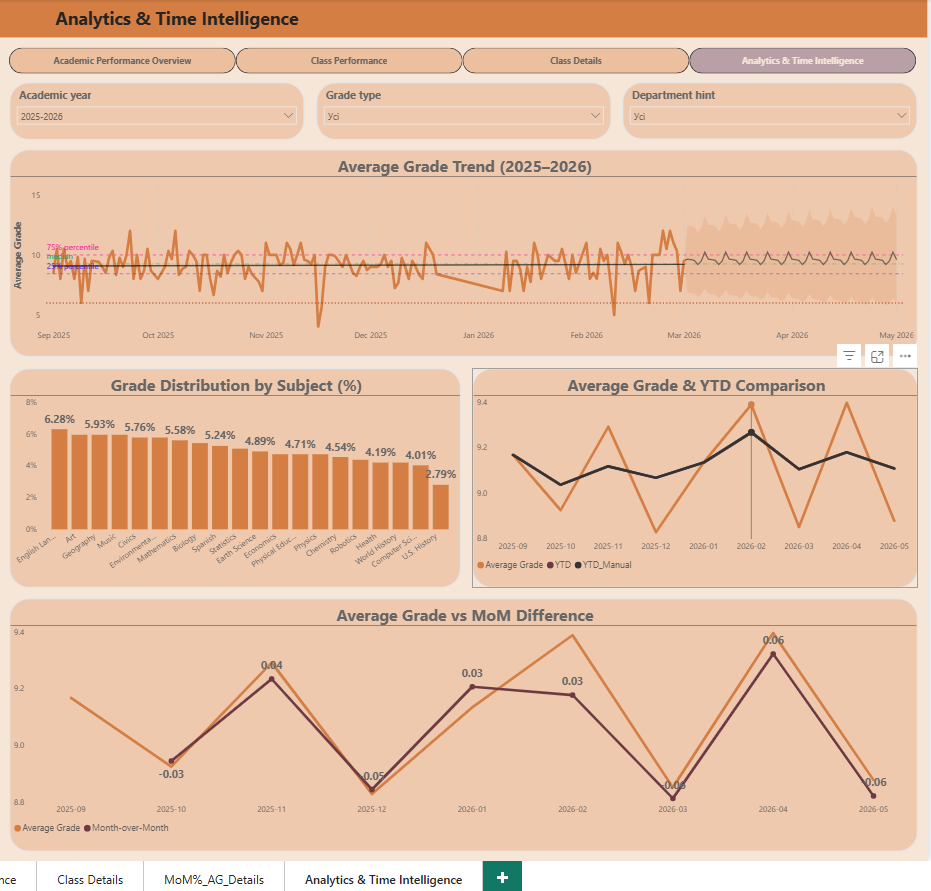

The page's visual inventory and layout, read from the dashboard file:
{"tool":"powerbi","page":{"name":"Analytics & Time Intelligence","canvas":[1400,1300],"ordinal":4},"visuals":[{"type":"textbox","box":[0,0,1400,58.4],"z":0},{"type":"pageNavigator","box":[14.6,66.5,1371.3,58.4],"z":1000},{"type":"slicer","fields":{"Values":["grades.grade_type"]},"box":[478.2,124.8,446,87.5],"z":3000},{"type":"slicer","fields":{"Values":["periods.academic_year"]},"box":[15.1,125,446,87.7],"z":4000},{"type":"slicer","fields":{"Values":["subjects.department_hint"]},"box":[939.6,125.2,446.4,87.5],"z":5000},{"type":"lineChart","title":"Average Grade Trend (2025–2026)","fields":{"Y":["_Measures.Average Grade"],"Category":["Calendar.Date"]},"box":[14.6,226.9,1371.3,314.5],"z":7000},{"type":"clusteredColumnChart","title":"Grade Distribution by Subject (%)","fields":{"Category":["subjects.subject_name"],"Y":["Sum(grades.grade_id)"]},"box":[14.6,556,682.4,332.3],"z":9000},{"type":"lineChart","title":"Average Grade & YTD Comparison","fields":{"Category":["Calendar.Year_Month"],"Y":["_Measures.Average Grade","_Measures.Average Grade YTD","_Measures.YTD_Manual"]},"box":[713.2,556,672.7,332.3],"z":10000},{"type":"lineChart","title":"Average Grade vs MoM Difference","fields":{"Y":["_Measures.Average Grade"],"Category":["Calendar.Year_Month"],"Y2":["_Measures.Month-over-Month"]},"box":[14.6,902.9,1371.3,382.5],"z":11000}]}

Visuals, with their boxes on the page's 1400x1300 design canvas (x1, y1, x2, y2). These are canvas units, not pixel positions in the 931x891 screenshot, which may show the page scaled, cropped or inside an application window:
textbox: <region>0, 0, 1400, 58</region>
pageNavigator: <region>15, 66, 1386, 125</region>
slicer - grades.grade_type: <region>478, 125, 924, 212</region>
slicer - periods.academic_year: <region>15, 125, 461, 213</region>
slicer - subjects.department_hint: <region>940, 125, 1386, 213</region>
"Average Grade Trend (2025–2026)" lineChart: <region>15, 227, 1386, 541</region>
"Grade Distribution by Subject (%)" clusteredColumnChart: <region>15, 556, 697, 888</region>
"Average Grade & YTD Comparison" lineChart: <region>713, 556, 1386, 888</region>
"Average Grade vs MoM Difference" lineChart: <region>15, 903, 1386, 1285</region>
